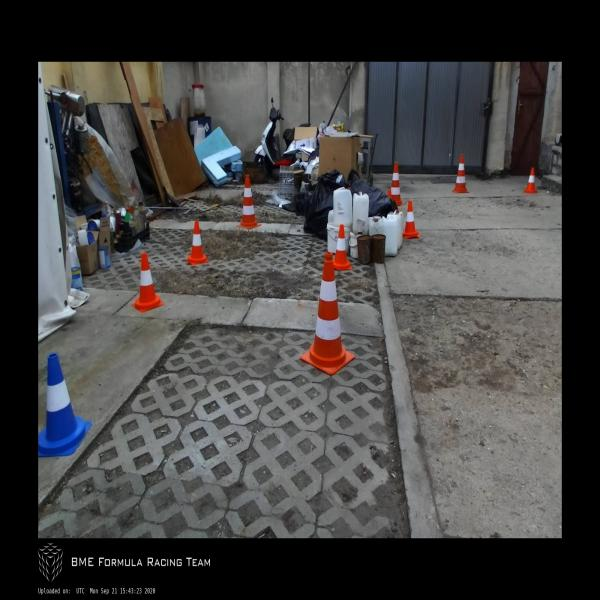blue_cone: (38, 354, 92, 456)
large_orange_cone: (301, 252, 354, 375), (236, 174, 262, 230), (451, 154, 469, 193), (390, 162, 405, 205)
orange_cone: (132, 253, 164, 313), (186, 220, 209, 266), (333, 224, 352, 271), (403, 201, 420, 239), (523, 167, 538, 193)
